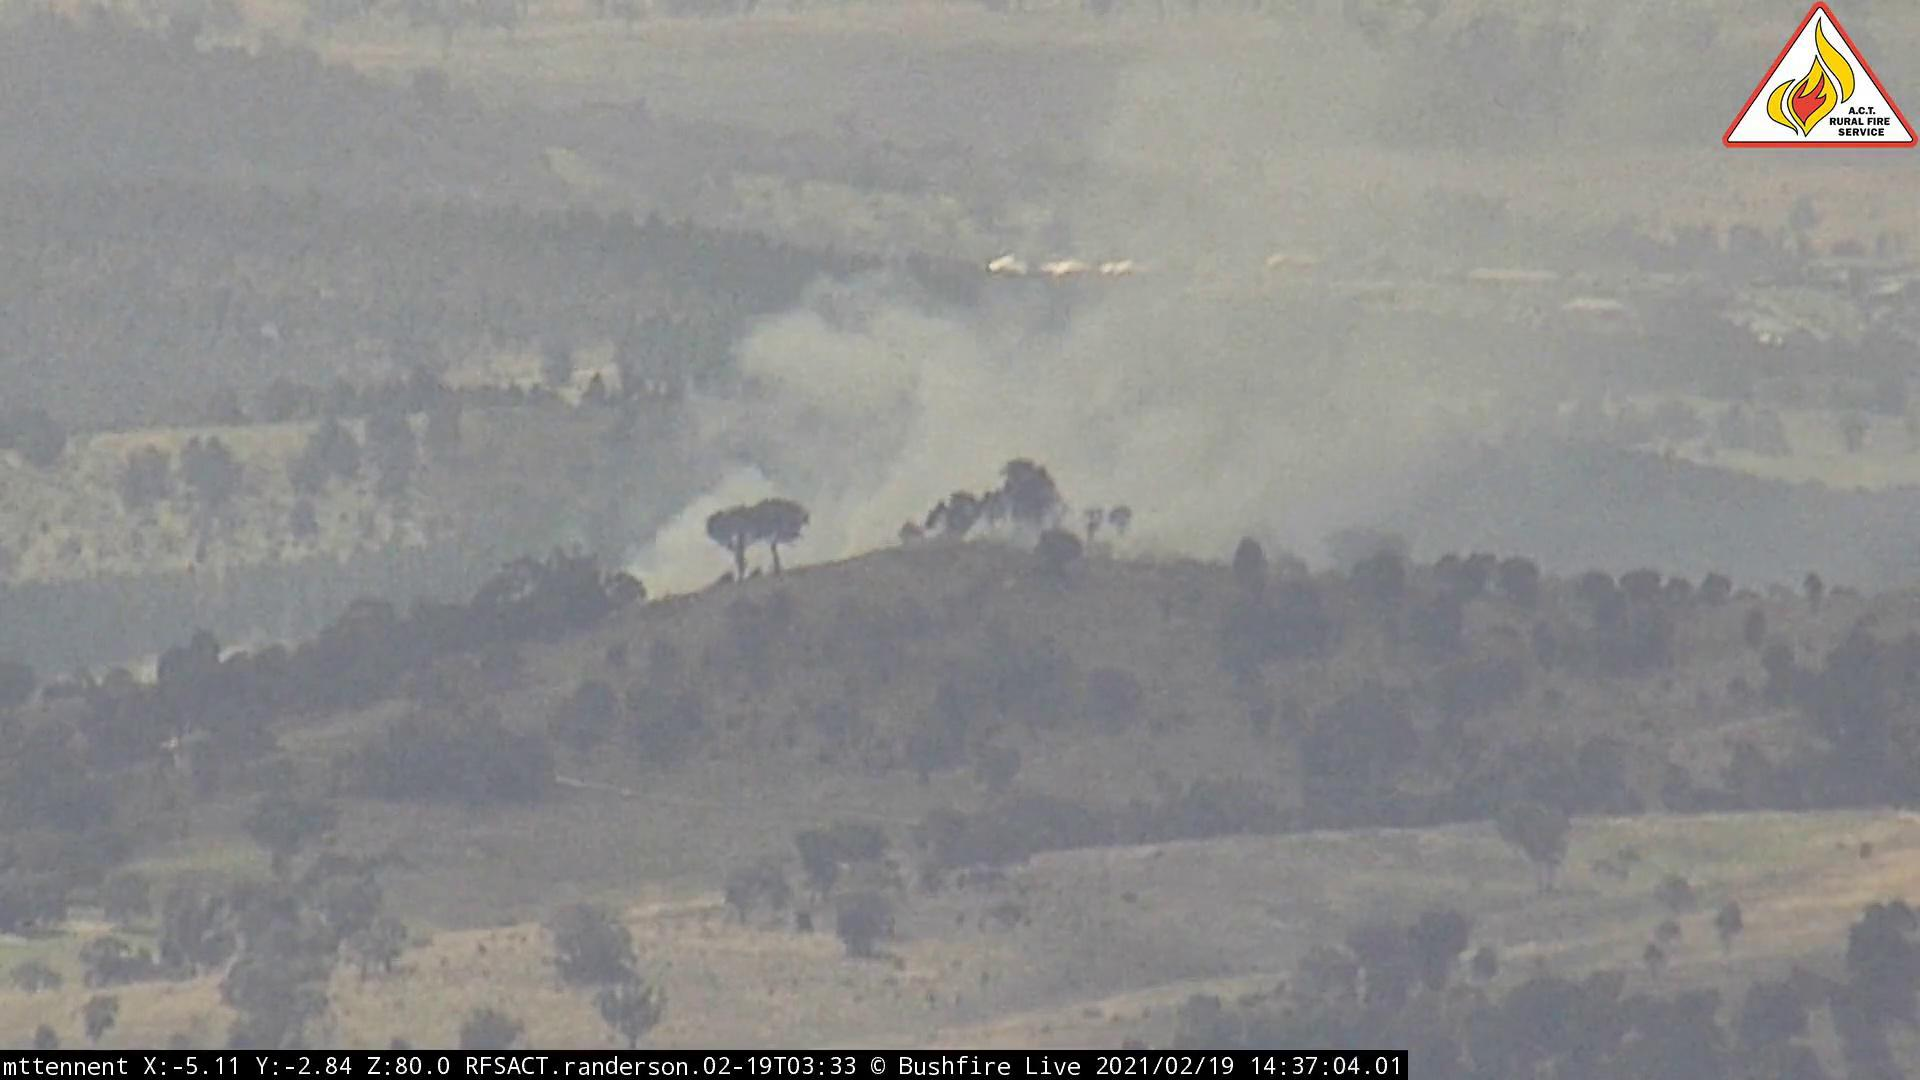Smoke: (603, 20, 1571, 622)
